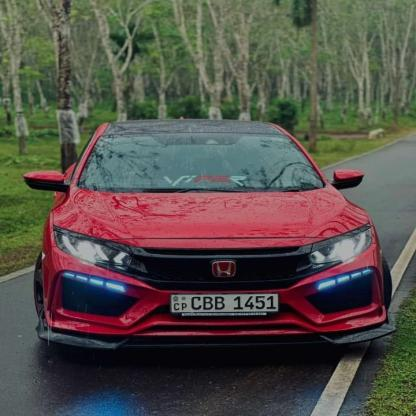car front: (20, 119, 404, 360)
number plate: (165, 295, 283, 315)
